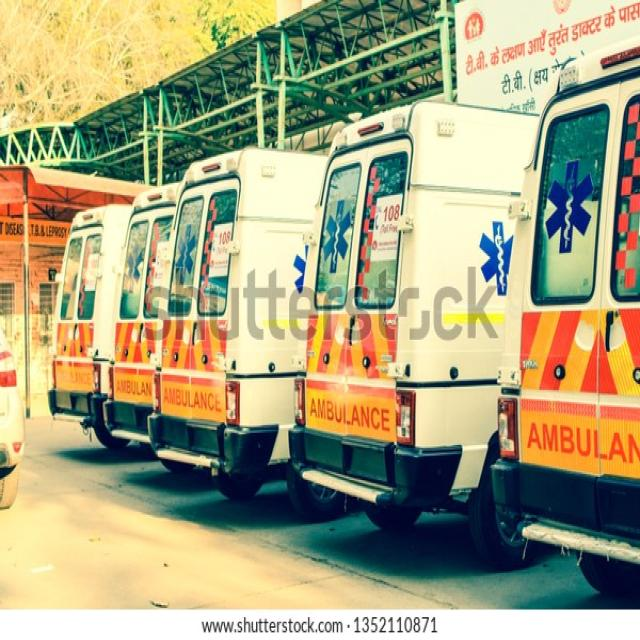ambulance: (291, 102, 513, 520), (497, 34, 640, 596), (152, 149, 307, 493), (48, 202, 126, 420), (110, 181, 174, 445)
